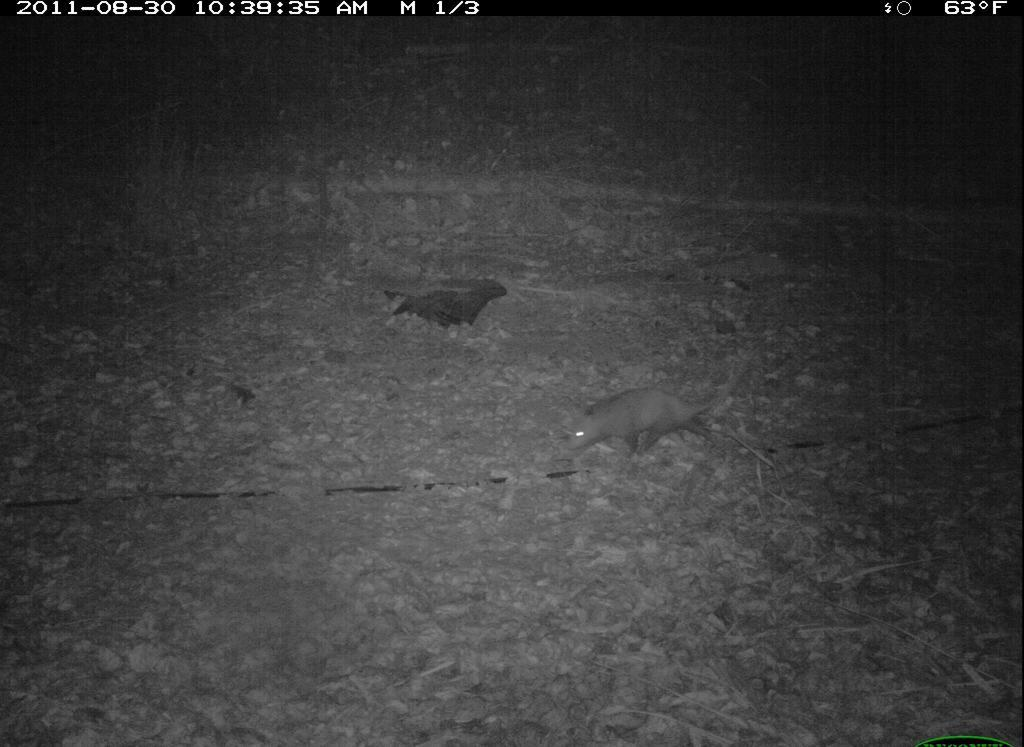opossum: (547, 361, 753, 475)
